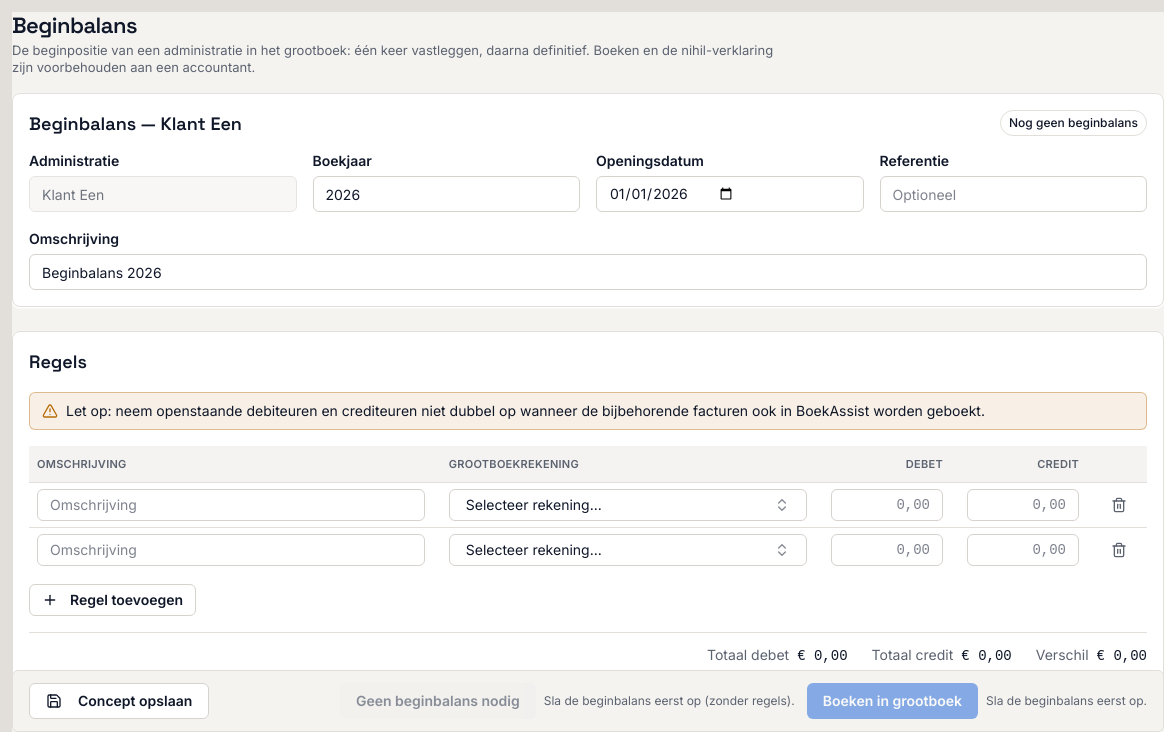
it: Beginbalans — concept › 7/8. regel toevoegen en verwijderen
The image size is (1164, 732).
Step 1. Click the button "Regel toevoegen" → (113, 600), box [29,584,196,616]
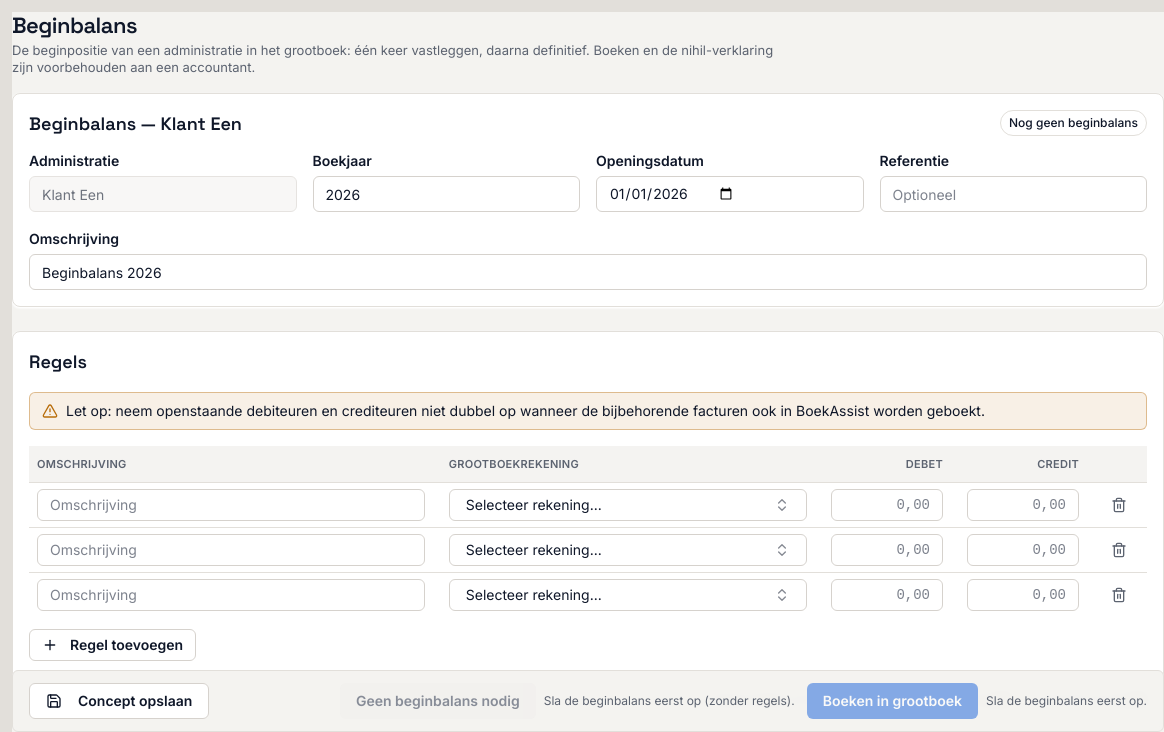
expect the number of rows with test id "beginbalans-line-row" is 3: met, box [29,482,1147,527]; [29,527,1147,572]; [29,572,1147,617]
Step 2. Type "10,00" into the 1st field with placeholder "0,00" → (887, 505), box [831,489,943,521]
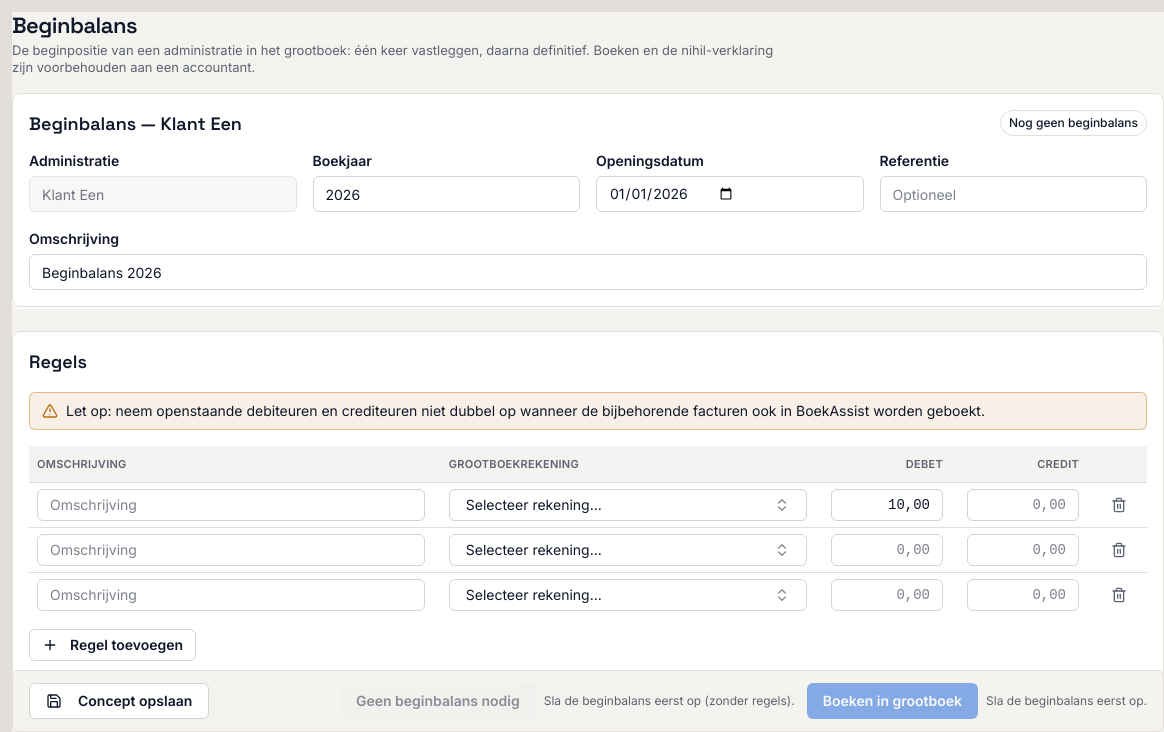
Step 3. Type "20,00" into the 2nd field with placeholder "0,00" → (887, 550), box [831,534,943,566]
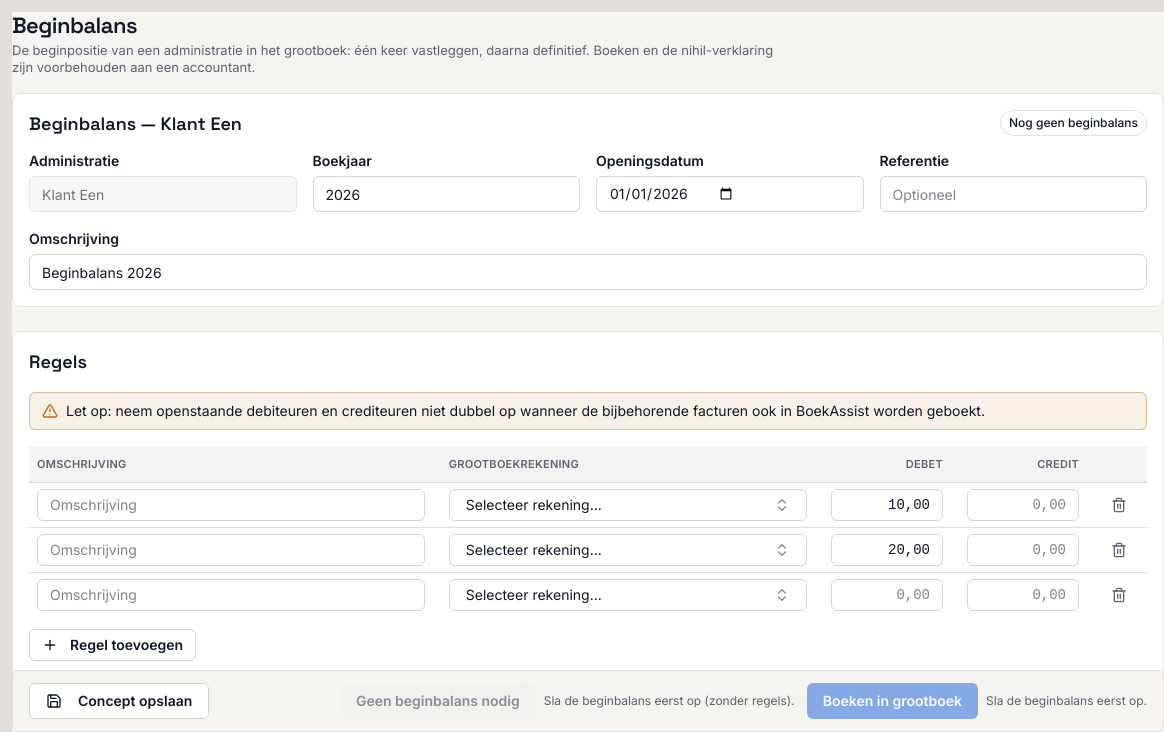
Step 4. Click the button named "Regel 1 verwijderen" → (1119, 505), box [1103,489,1135,521]
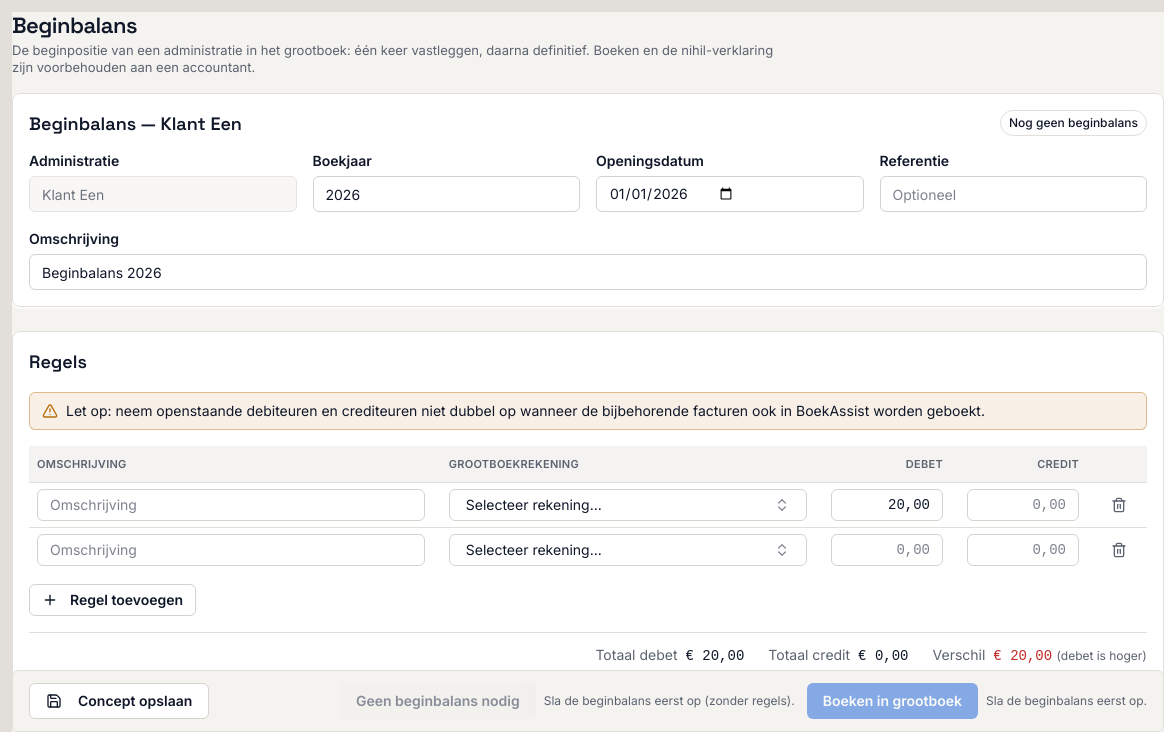
expect the number of rows with test id "beginbalans-line-row" is 2: met, box [29,482,1147,527]; [29,527,1147,572]
